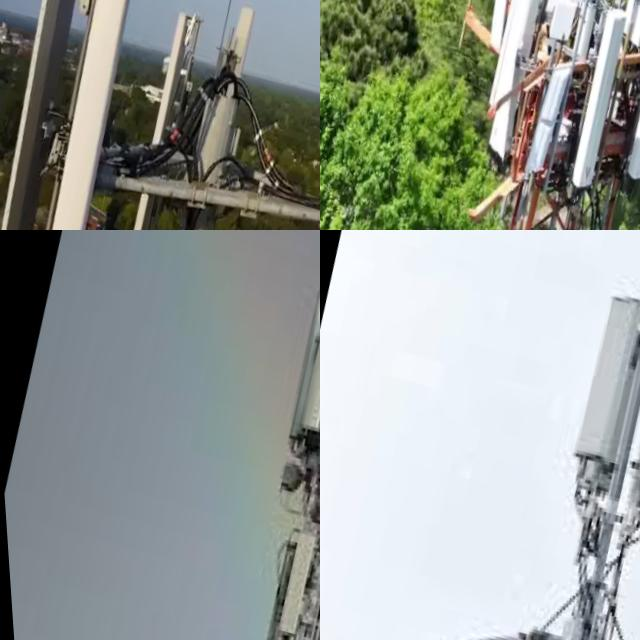GSM Antenna: (0, 0, 176, 230), (0, 0, 129, 230), (99, 3, 209, 230), (548, 1, 640, 198), (558, 285, 640, 476), (465, 0, 558, 158), (511, 57, 573, 186), (606, 0, 640, 190), (281, 274, 320, 437), (267, 528, 318, 637), (616, 309, 640, 509), (212, 1, 264, 89), (479, 0, 547, 64)
Microwave Antenna: (269, 458, 307, 499), (306, 482, 320, 530)
